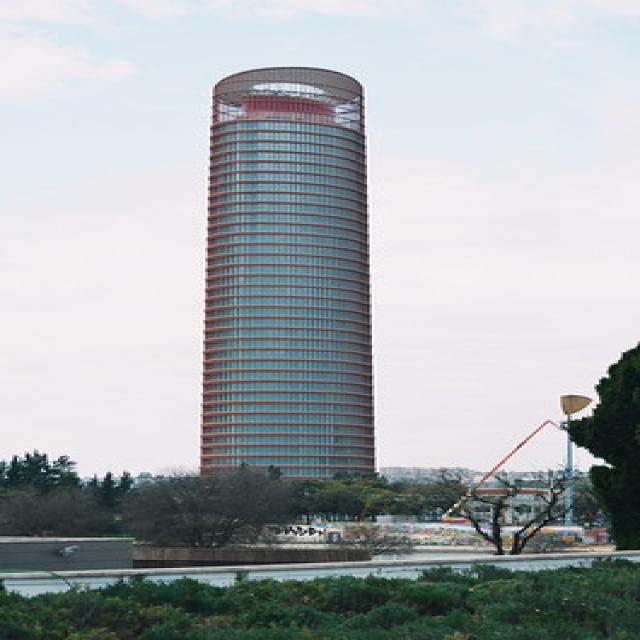building: (198, 64, 389, 531)
